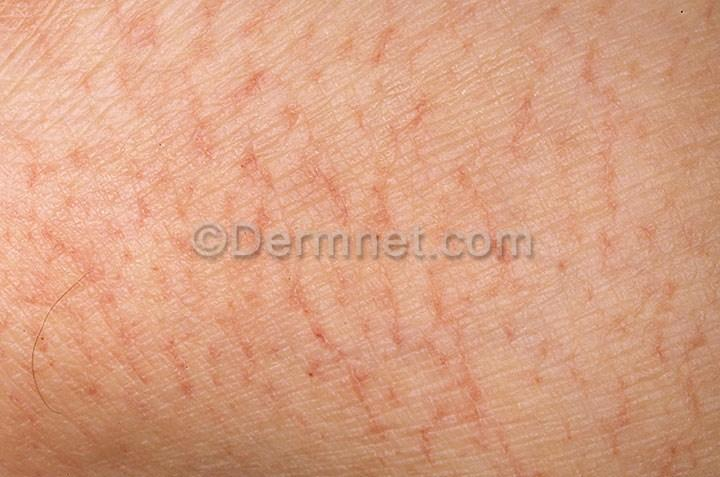Eczema: (2, 1, 719, 477)
